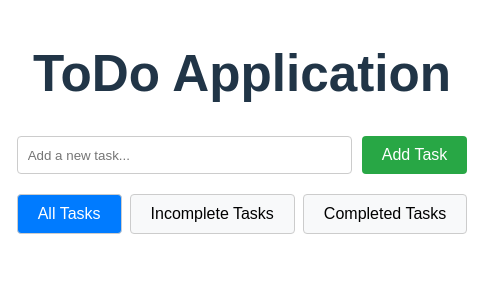
Test case: ToDo Application › switches to "Completed Tasks" tab
This screenshot has width=484, height=282.
Type "Task 1" into the field with placeholder "Add a new task..." at (184, 156), box [17,136,352,174]
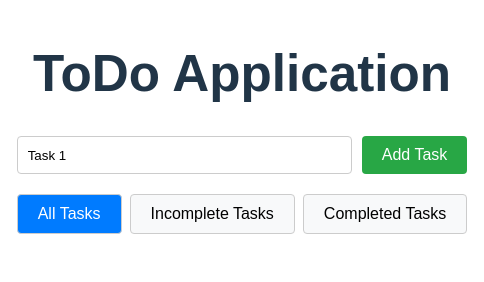
Click the button "Add Task" at (415, 156), box [362,136,467,174]
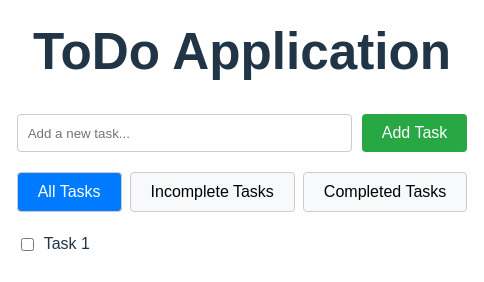
Type "Task 2" into the field with placeholder "Add a new task..." at (184, 134), box [17,114,352,152]
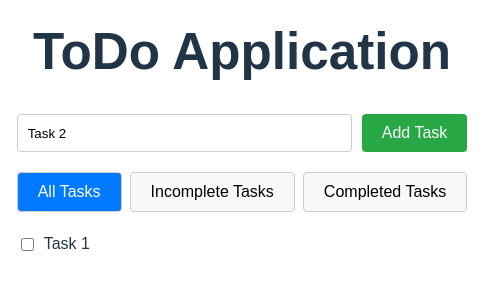
Click the button "Add Task" at (415, 134), box [362,114,467,152]
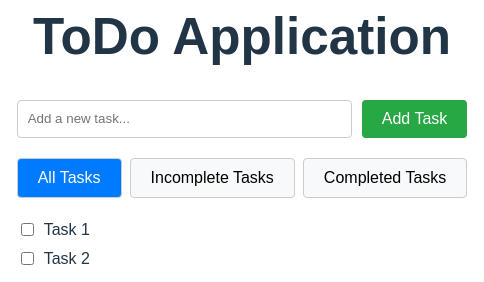
Click the checkbox next to "Task 1" at (27, 230), box [21,224,34,236]
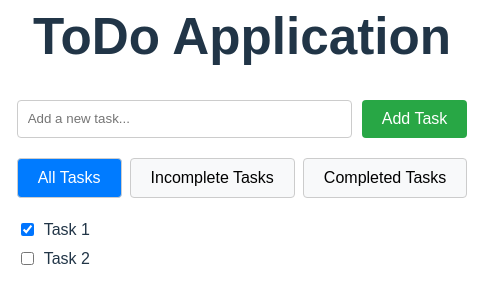
Click the button "Completed Tasks" at (385, 178), box [303,158,467,198]
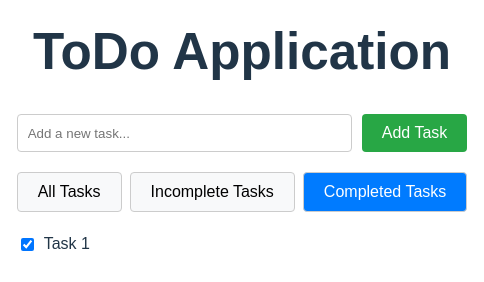
Now the list item "Task 1" is shown, box [21,236,90,252]
Now the list item "Task 2" is gone
